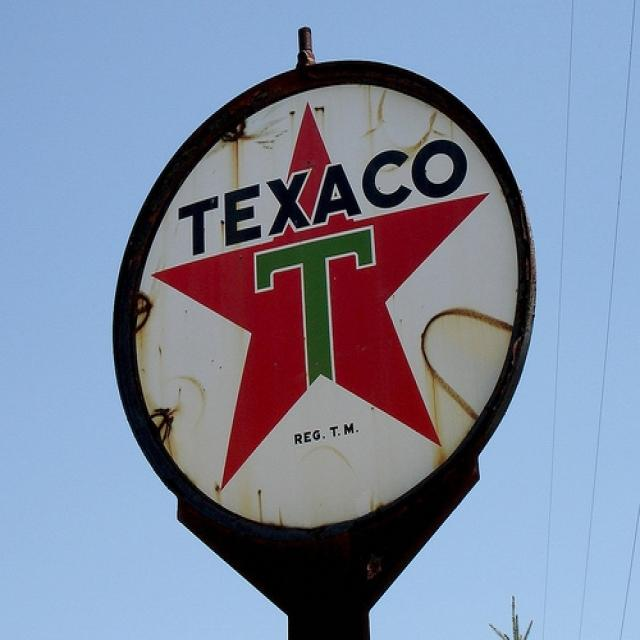texaco: (130, 83, 518, 533)
